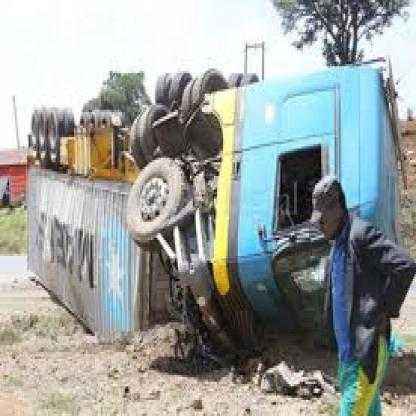accident: (18, 58, 410, 373)
